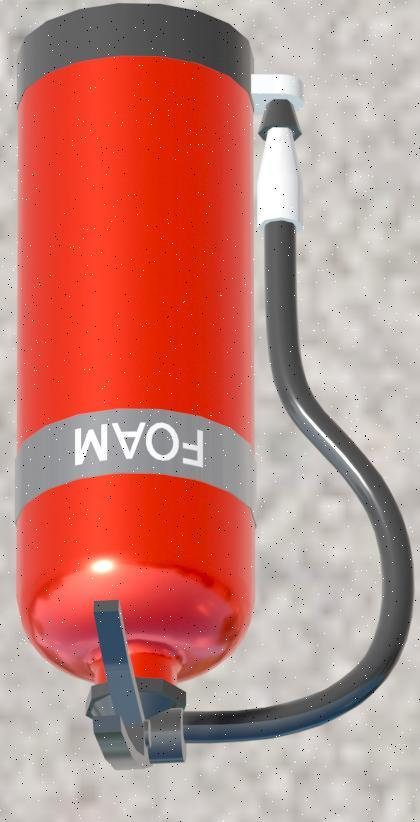Fire Extinguisher: (18, 0, 420, 790)
